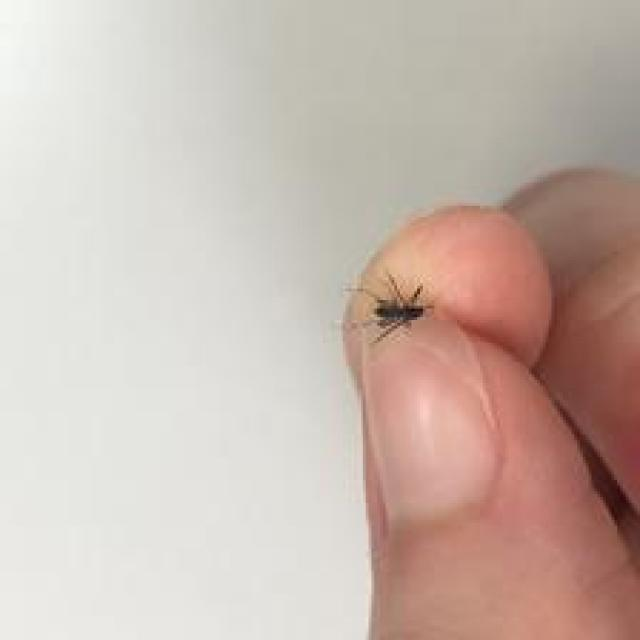Aedes albopictus: (340, 270, 434, 347)
